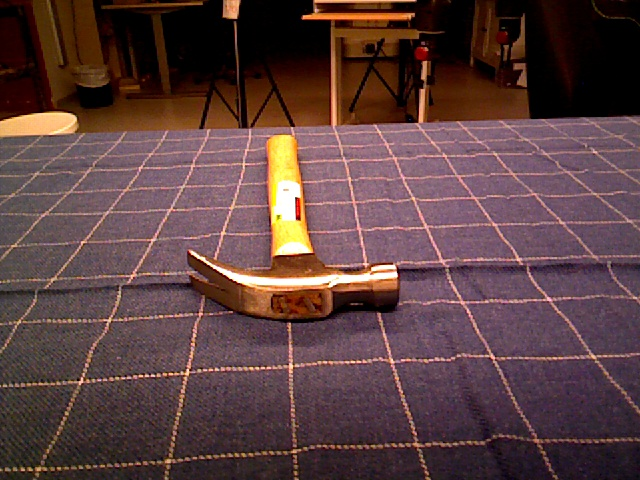hammer1: (185, 134, 401, 325)
